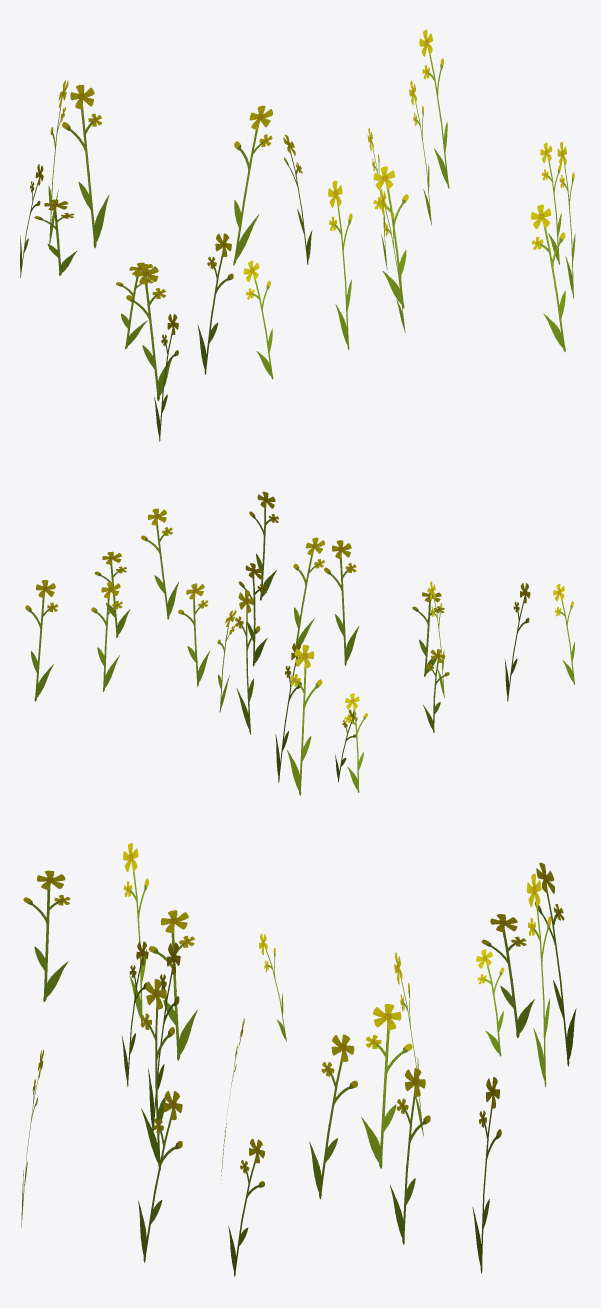
File: AR_Flowers_004.FBX
3 views of the same model, one above another, from view 1: azimuth 30°, elevation 25°; view 2: azimuth 150°, elevation 25°; view 3: azimuth 270°, elevation 25° (orthographic). The views are drawn at different scales.
Parts seen in each view (by area): view 1: AR_flower_004; view 2: AR_flower_004; view 3: AR_flower_004.
Part boxes in pixels (x1,y1,x2,y2): AR_flower_004: (20,29,575,441); AR_flower_004: (25,491,574,795); AR_flower_004: (21,843,576,1276).
Size of the model in its own units: 78.07 by 28.34 by 65.87.
